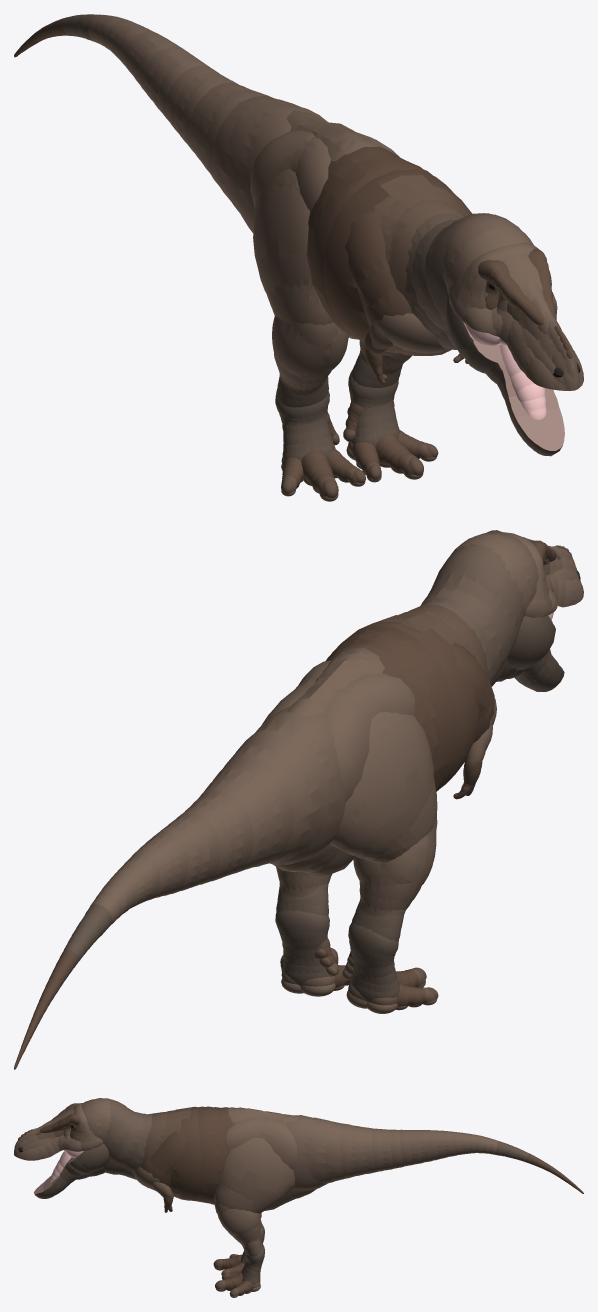
The model's file is trex (1).glb.
3 renders of one model, top to bottom at view 1: azimuth 30°, elevation 25°; view 2: azimuth 150°, elevation 25°; view 3: azimuth 270°, elevation 25°, orthographic. The views are drawn at different scales.
Visible parts, largest first — view 1: Chest_31, Thigh02_70, Tail01_48, Head_61, Calf02_17, Shoulder02_15, TorsoPart02_12, Neck04_68, Tail02_75, JawEnd_81, Foot02_25, SnoutPart1_30 (+21 smaller); view 2: Thigh02_70, Tail01_48, Head_61, Chest_31, TorsoPart02_12, Tail02_75, Neck03_78, Calf02_17, Torso_34, Tail03_62, Foot02_25, Foot01_51 (+19 smaller); view 3: Thigh01_87, Tail01_48, Chest_31, Head_61, TorsoPart01_28, Tail02_75, Neck03_78, Shoulder01_14, Calf01_85, Tail03_62, Jaw_82, Torso_34 (+16 smaller).
Boxes of the visible parts, <box> form: Chest_31: <box>323,169,465,355</box>; Thigh02_70: <box>253,169,332,325</box>; Tail01_48: <box>211,96,327,232</box>; Head_61: <box>306,146,432,338</box>; Calf02_17: <box>272,316,348,395</box>; Shoulder02_15: <box>345,211,412,351</box>; TorsoPart02_12: <box>250,130,330,211</box>; Neck04_68: <box>443,214,533,293</box>; Tail02_75: <box>188,83,271,185</box>; JawEnd_81: <box>497,348,564,456</box>; Foot02_25: <box>275,391,335,461</box>; SnoutPart1_30: <box>464,256,557,343</box>; Thigh02_70: <box>330,711,437,863</box>; Tail01_48: <box>223,706,345,864</box>; Head_61: <box>325,626,459,791</box>; Chest_31: <box>352,604,488,789</box>; TorsoPart02_12: <box>325,673,415,801</box>; Tail02_75: <box>198,759,294,873</box>; Neck03_78: <box>428,543,524,686</box>; Calf02_17: <box>353,815,437,919</box>; Torso_34: <box>273,647,384,876</box>; Tail03_62: <box>177,791,254,884</box>; Foot02_25: <box>348,922,399,1002</box>; Foot01_51: <box>275,910,332,985</box>; Thigh01_87: <box>214,1137,295,1213</box>; Tail01_48: <box>286,1115,344,1190</box>; Chest_31: <box>143,1106,200,1200</box>; Head_61: <box>195,1106,235,1204</box>; TorsoPart01_28: <box>226,1118,297,1169</box>; Tail02_75: <box>339,1123,377,1178</box>; Neck03_78: <box>104,1099,134,1174</box>; Shoulder01_14: <box>140,1130,186,1189</box>; Calf01_85: <box>214,1202,261,1247</box>; Tail03_62: <box>371,1128,404,1171</box>; Jaw_82: <box>65,1144,109,1179</box>; Torso_34: <box>228,1107,316,1210</box>.
Bounding box in the file's own units: 9.33 × 20.47 × 58.5.
